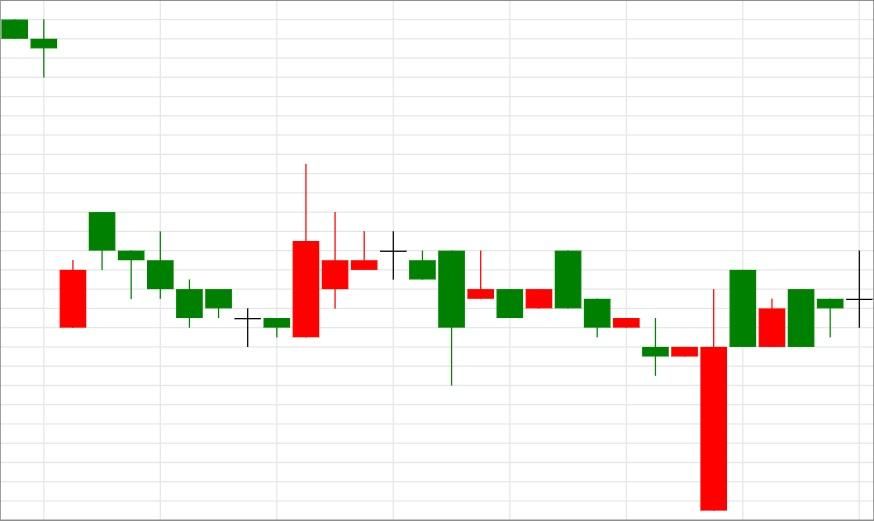bullish_engulfing_rise: (88, 163, 320, 347)
